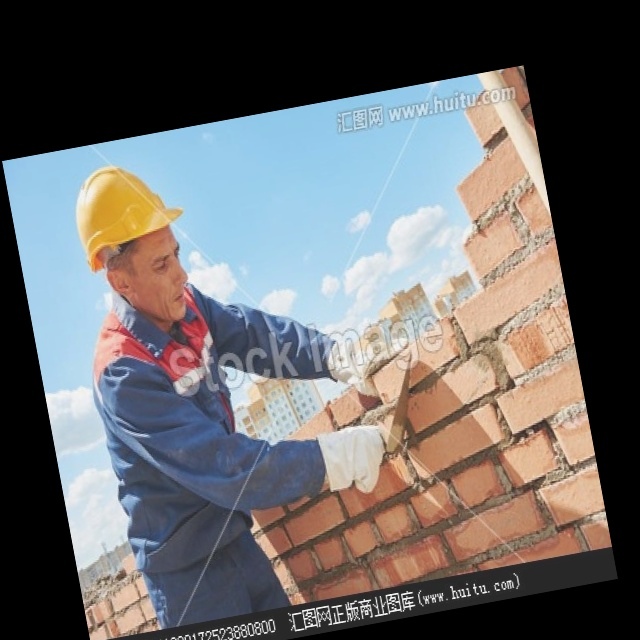Con_Casco: (70, 155, 200, 323)
